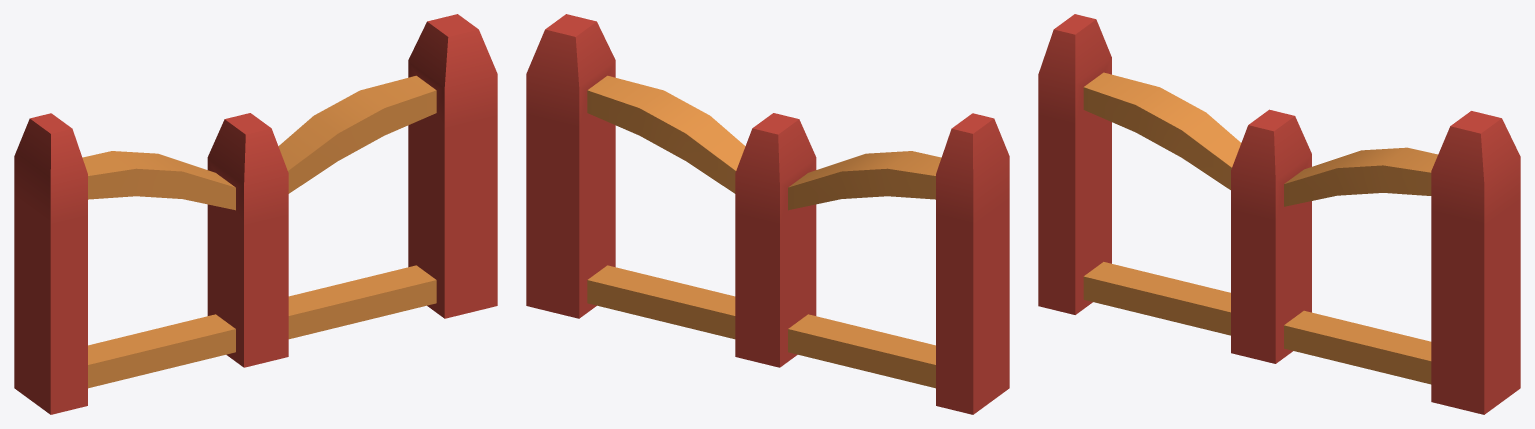
The model's file is Fence.fbx.
The picture shows the model from 3 angles, left to right: view 1: azimuth 30°, elevation 25°; view 2: azimuth 150°, elevation 25°; view 3: azimuth 330°, elevation 25°; orthographic projection.
Parts seen in each view (by area): view 1: Fence.003; view 2: Fence.003; view 3: Fence.003.
Part boxes in pixels (x1=…): Fence.003: x1=14, y1=14, x2=497, y2=414; Fence.003: x1=526, y1=14, x2=1009, y2=414; Fence.003: x1=1038, y1=14, x2=1520, y2=414.
Size of the model in its own units: 1610 by 941 by 228.
